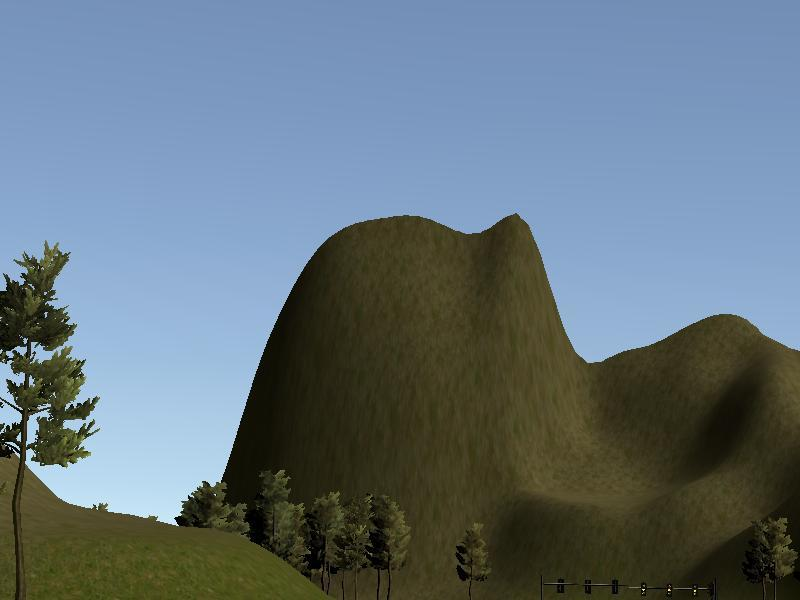Yellow: (640, 583, 648, 598), (666, 583, 673, 597), (691, 584, 697, 597)
